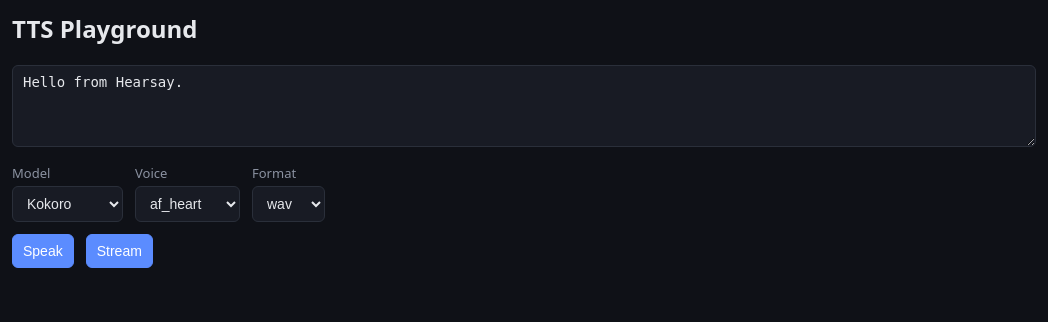
Scenario: TtsPlayground › shows an error when synthesis fails
The image size is (1048, 322).
Click the button "Speak".
click(43, 251)  # box 12,234 -> 74,268
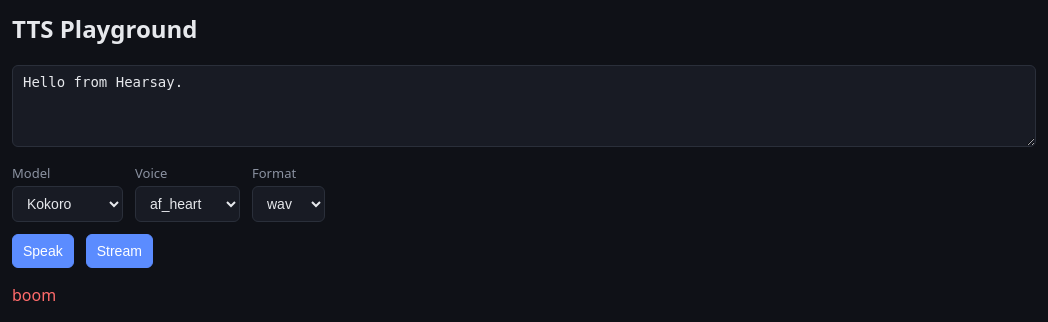
expect the message reads "boom": met, box 12,284 -> 56,306
